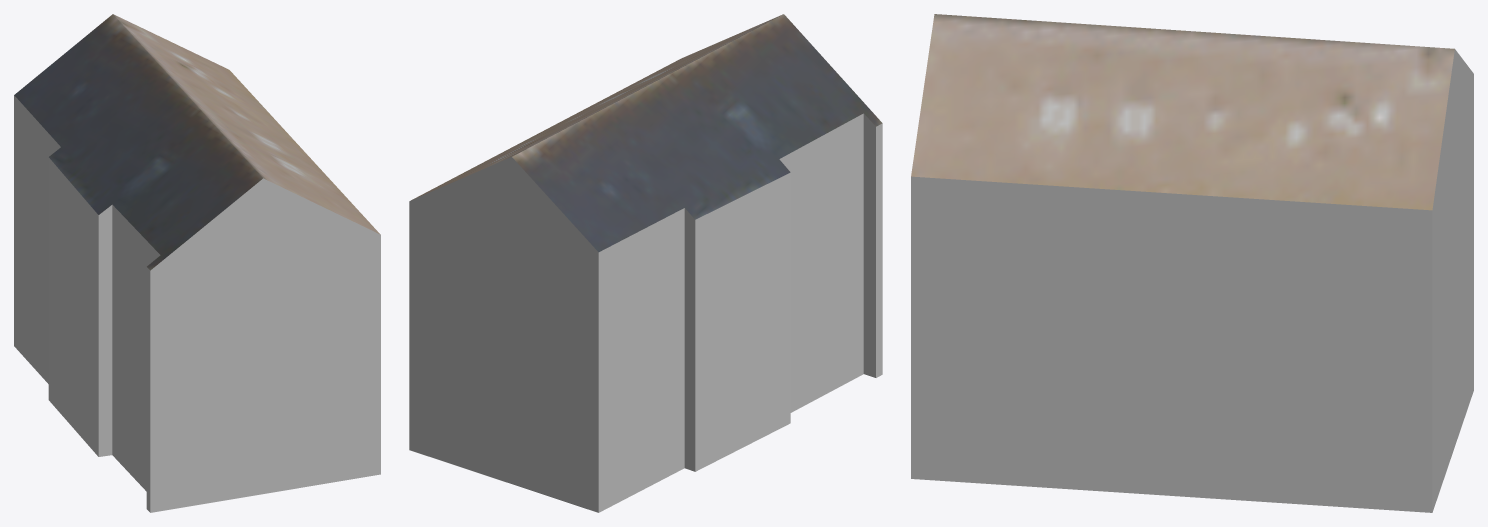
File: DEBW_0010007TxcF.gltf
3 renders of one model, left to right at view 1: azimuth 30°, elevation 25°; view 2: azimuth 150°, elevation 25°; view 3: azimuth 270°, elevation 25°, orthographic. The views are drawn at different scales.
Visible parts, largest first — view 1: Z_UP; view 2: Z_UP; view 3: Z_UP.
Boxes of the visible parts, x1=… form: Z_UP: x1=14, y1=14, x2=380, y2=512; Z_UP: x1=409, y1=14, x2=882, y2=512; Z_UP: x1=911, y1=14, x2=1473, y2=512.
Bounding box in the file's own units: 13.25 × 14.94 × 19.14.
2 materials, 1 textured.
